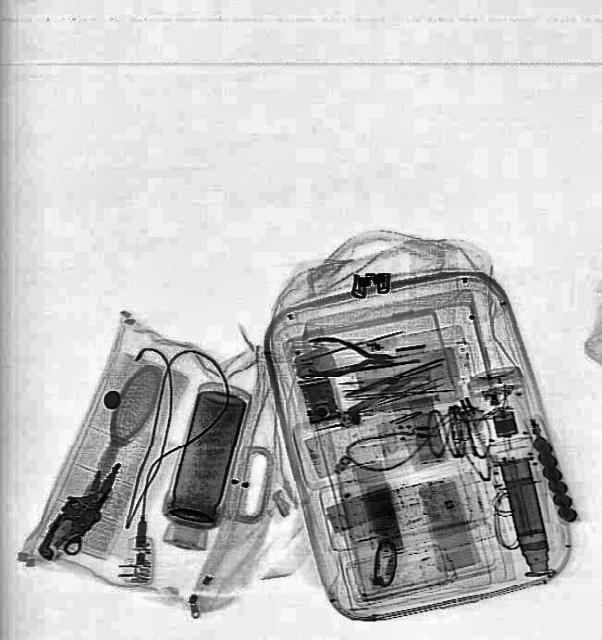Pliers: (305, 334, 393, 381)
